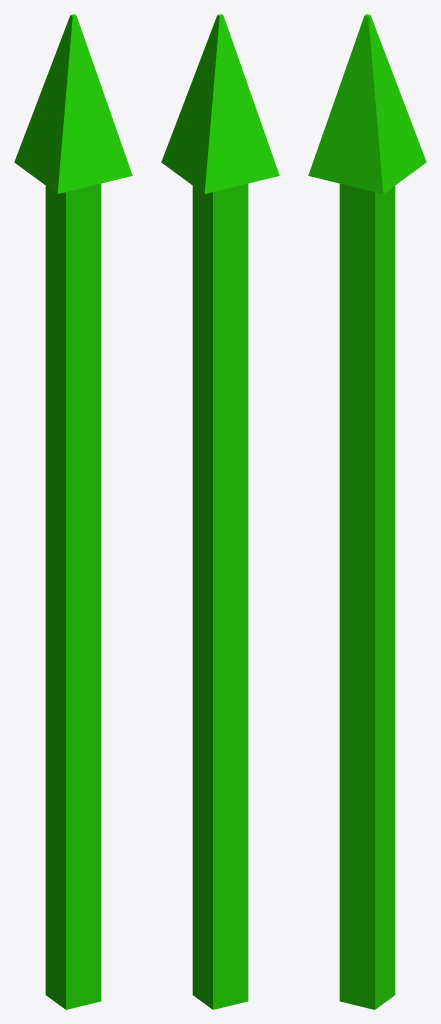
The picture shows the model from 3 angles, left to right: view 1: azimuth 30°, elevation 25°; view 2: azimuth 210°, elevation 25°; view 3: azimuth 330°, elevation 25°; orthographic projection.
Visible parts, largest first — view 1: Cube.001; view 2: Cube.001; view 3: Cube.001.
Boxes of the visible parts, left/top/right/bottom form: Cube.001: left=14, top=14, right=132, bottom=1009; Cube.001: left=161, top=14, right=279, bottom=1009; Cube.001: left=308, top=14, right=426, bottom=1009.
Bounding box in the file's own units: 0.1897 × 2.37 × 0.1897.
